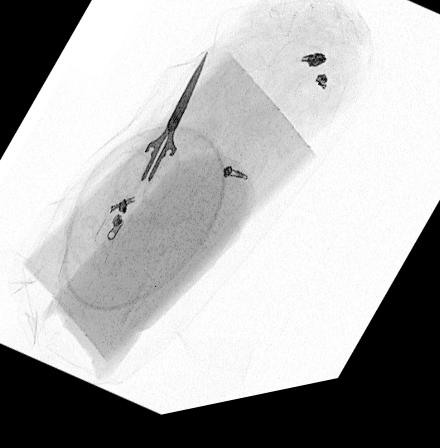Scissors: (113, 58, 207, 215)
